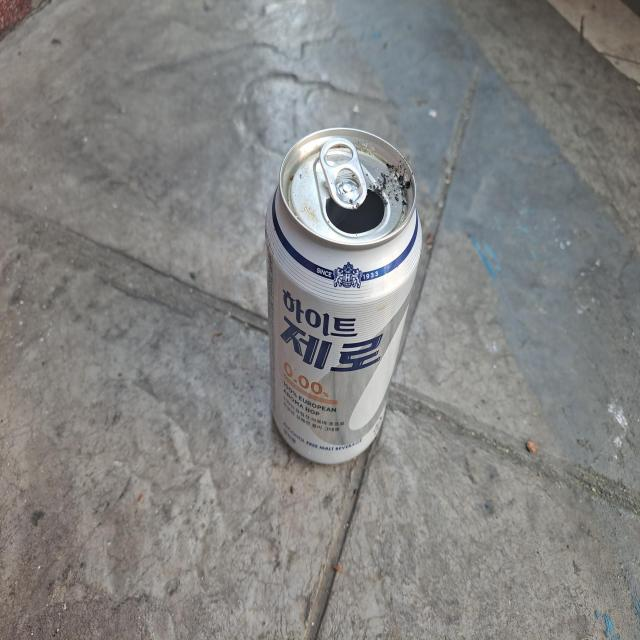can: (266, 127, 422, 464)
